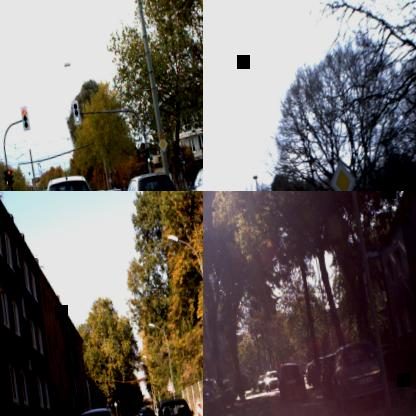priority road: (326, 157, 357, 191), (156, 136, 168, 154)
traffic signal: (164, 377, 174, 392)
